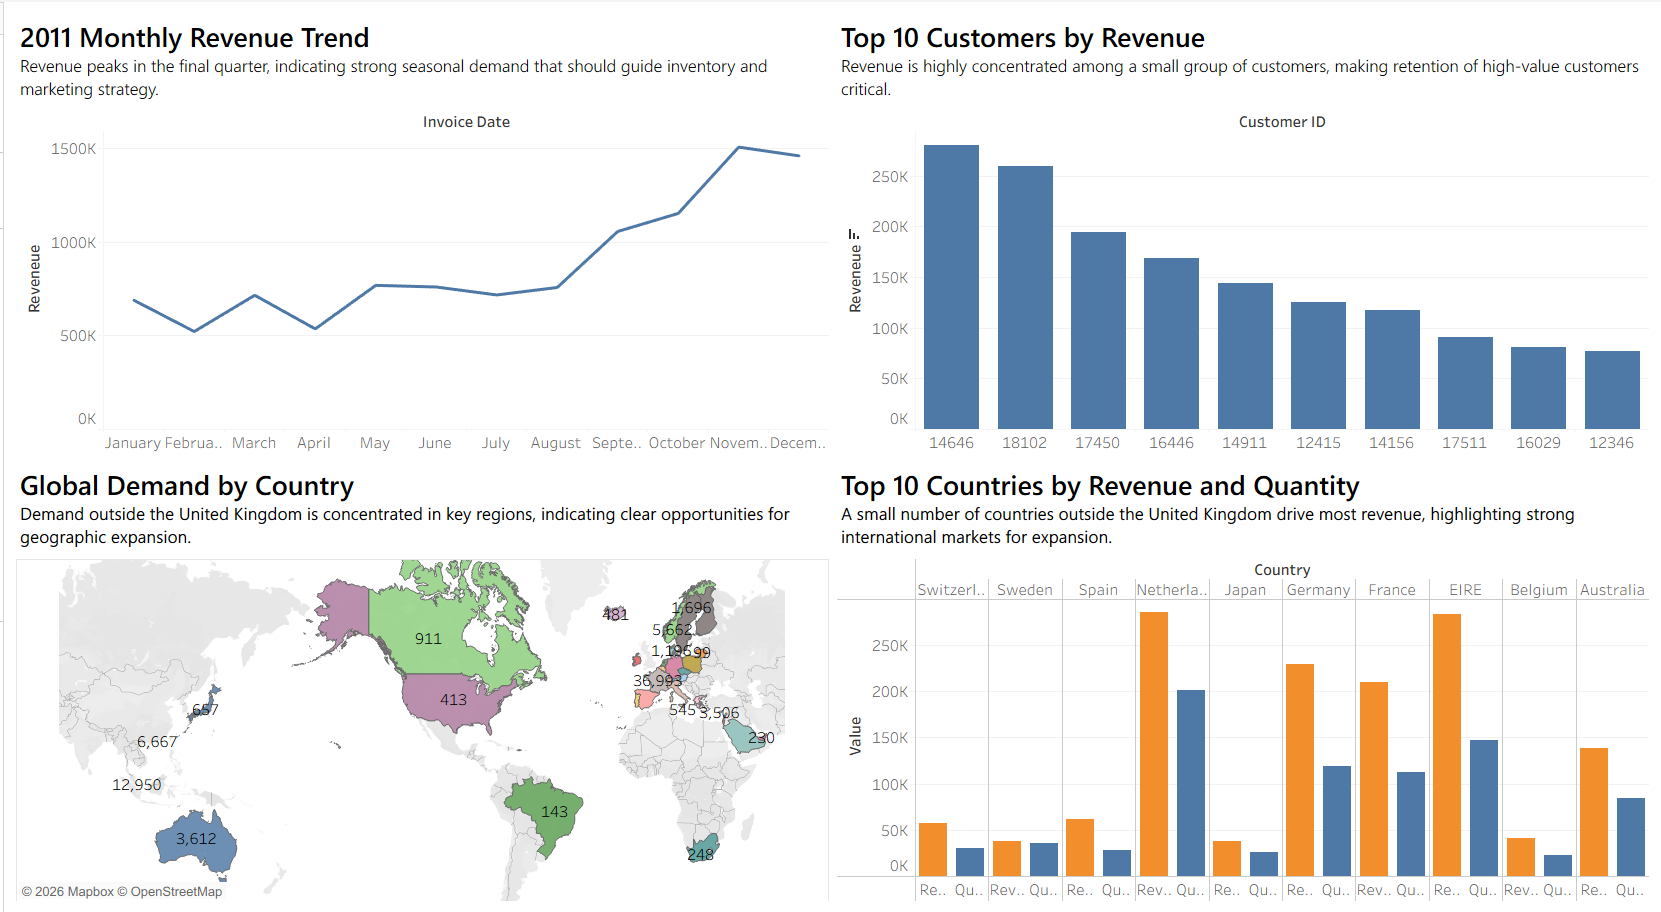

Layout of this report page (visuals, bound fields, positions):
{"tool":"tableau","page":{"name":"Tata Retail Sales Insights Dashboard","canvas":[1000,1000],"units":"permille","ordinal":0},"visuals":[{"type":"worksheet","title":"Sheet 1","mark":"Automatic","rows":["Calculation_1327718934306817"],"cols":["InvoiceDate"],"box":[4.8,8.8,495.5,491.2]},{"type":"worksheet","title":"Sheet 3","mark":"Automatic","rows":["Calculation_1327718934306817"],"cols":["CustomerID"],"box":[500.3,8.8,494.9,491.2]},{"type":"worksheet","title":"Sheet 4","mark":"Multipolygon","box":[4.8,500,495.2,491.2]},{"type":"worksheet","title":"Sheet 2","mark":"Automatic","cols":["Country"],"box":[500,500,495.2,491.2]}]}

Visuals, with their boxes on the dashboard's canvas, which has no fixed pixel size, in thousandths of its width and height (x1, y1, x2, y2). These are canvas units, not pixel positions in the 1661x912 screenshot, which may show the page scaled, cropped or inside an application window:
"Sheet 1" worksheet: (x1=5, y1=9, x2=500, y2=500)
"Sheet 3" worksheet: (x1=500, y1=9, x2=995, y2=500)
"Sheet 4" worksheet (Multipolygon marks): (x1=5, y1=500, x2=500, y2=991)
"Sheet 2" worksheet: (x1=500, y1=500, x2=995, y2=991)
